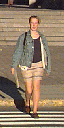person: (9, 15, 51, 121)
